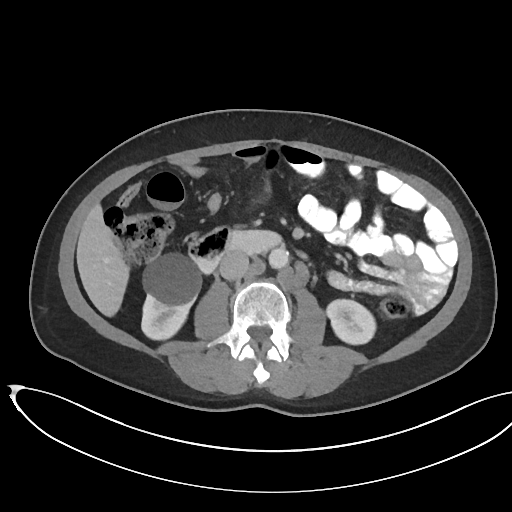Lesion: (140, 252, 205, 310)
